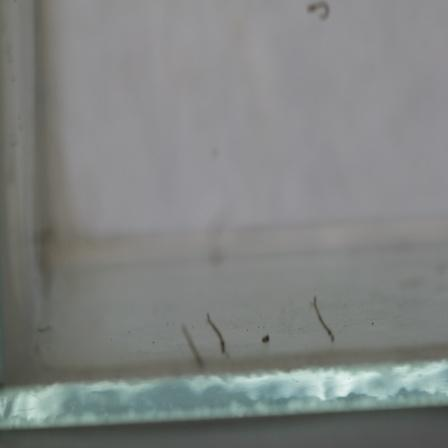Jentik-Nyamuk: (309, 291, 337, 345), (205, 312, 229, 355)
